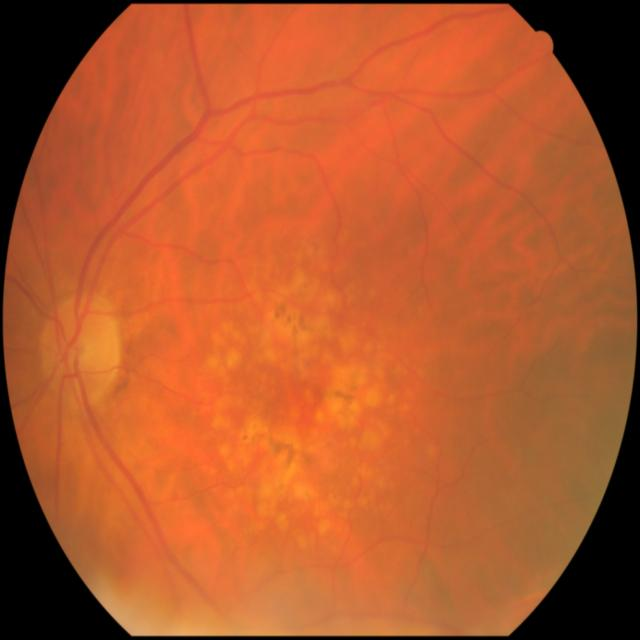OC: (70, 336, 92, 363)
OD: (40, 298, 121, 400)
